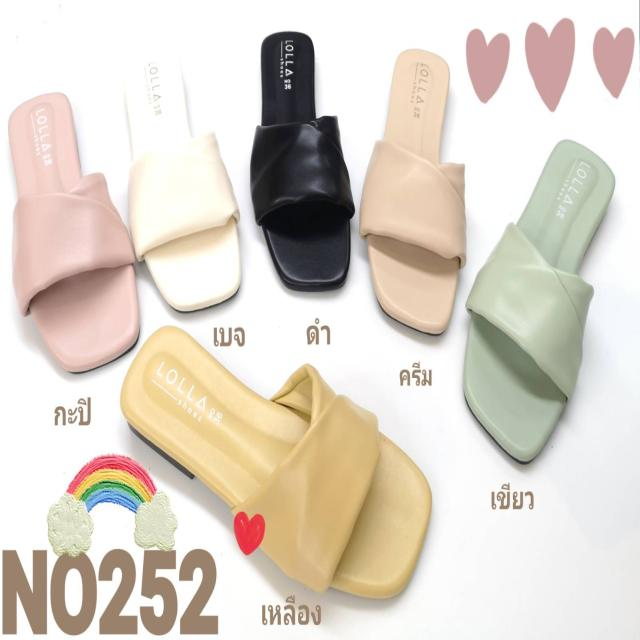bej: (123, 65, 240, 306)
black: (257, 34, 351, 292)
cream: (366, 49, 458, 341)
green: (461, 130, 616, 466)
kapi: (11, 94, 139, 373)
yellow: (117, 323, 434, 596)
